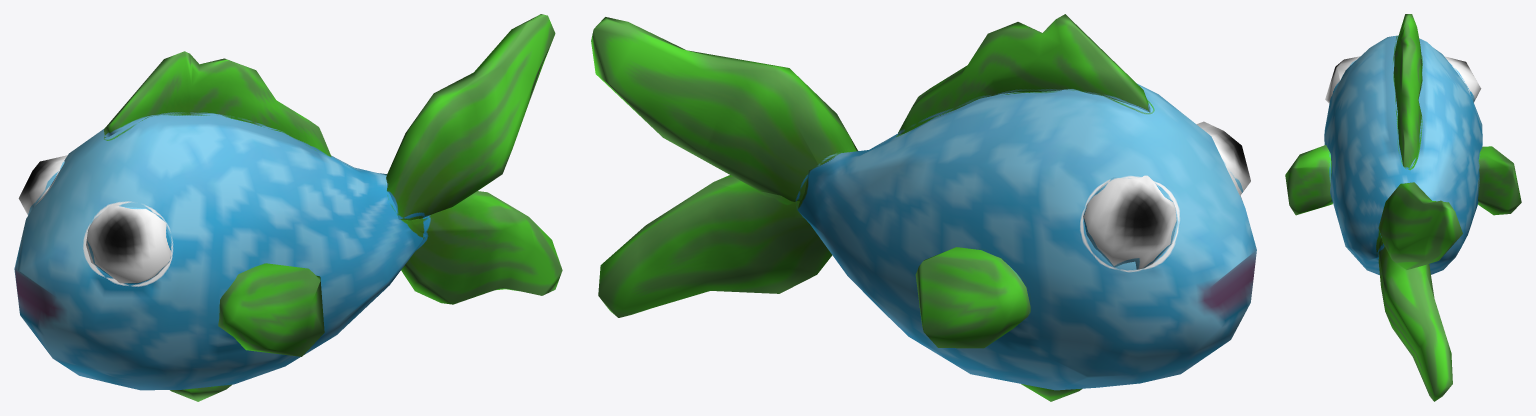
File: low_poly_fish_-cartoon_style.glb
3 views of the same model, side by side, from view 1: azimuth 30°, elevation 25°; view 2: azimuth 150°, elevation 25°; view 3: azimuth 270°, elevation 25° (orthographic). The views are drawn at different scales.
Parts seen in each view (by area): view 1: Sphere 2_0; view 2: Sphere 2_0; view 3: Sphere 2_0.
Part boxes in pixels (bbox=[...]): Sphere 2_0: bbox=[14, 14, 562, 401]; Sphere 2_0: bbox=[591, 14, 1256, 401]; Sphere 2_0: bbox=[1285, 14, 1521, 401].
Size of the model in its own units: 1.18 by 0.7135 by 0.6014.
Materials: 1 (1 with a texture image).
